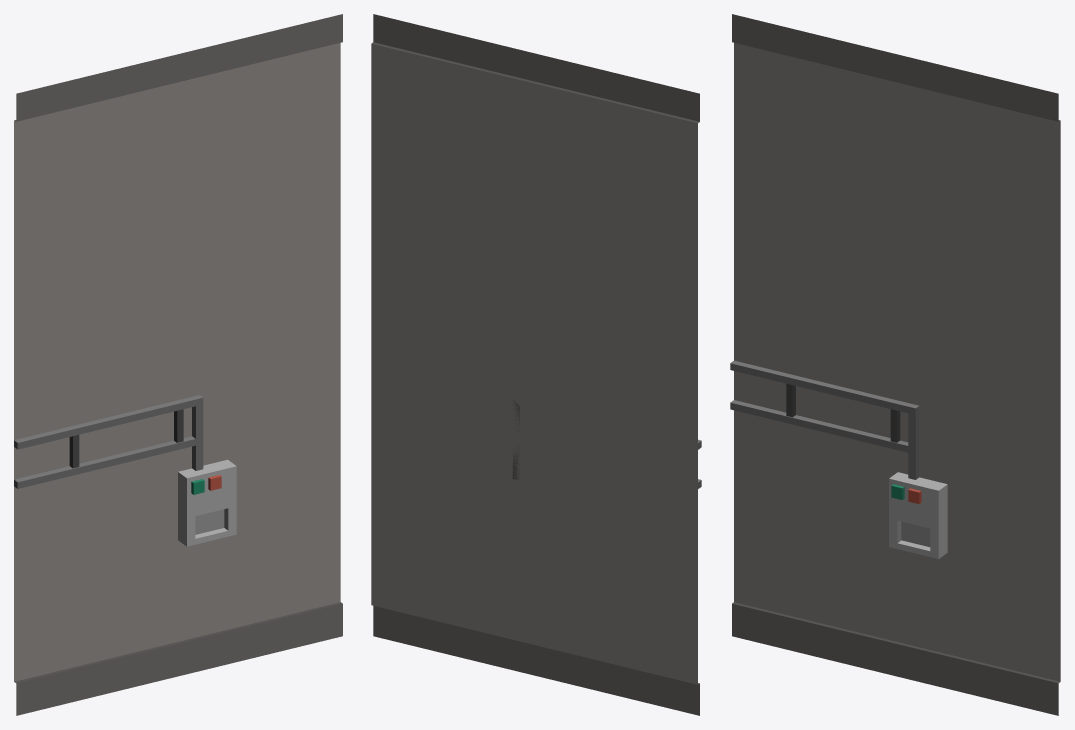
File: AI_Env_Wall_Factory_Electronics_End.fbx
The picture shows the model from 3 angles, left to right: view 1: azimuth 30°, elevation 25°; view 2: azimuth 150°, elevation 25°; view 3: azimuth 330°, elevation 25°; orthographic projection.
Parts seen in each view (by area): view 1: AI_Env_Wall_Factory_Electronics_End; view 2: AI_Env_Wall_Factory_Electronics_End; view 3: AI_Env_Wall_Factory_Electronics_End.
Part boxes in pixels (x1,y1,x2,y2): AI_Env_Wall_Factory_Electronics_End: (14,14,342,715); AI_Env_Wall_Factory_Electronics_End: (371,14,701,715); AI_Env_Wall_Factory_Electronics_End: (730,14,1060,715).
Bounding box in the file's own units: 5 × 9.1 × 0.2941.
